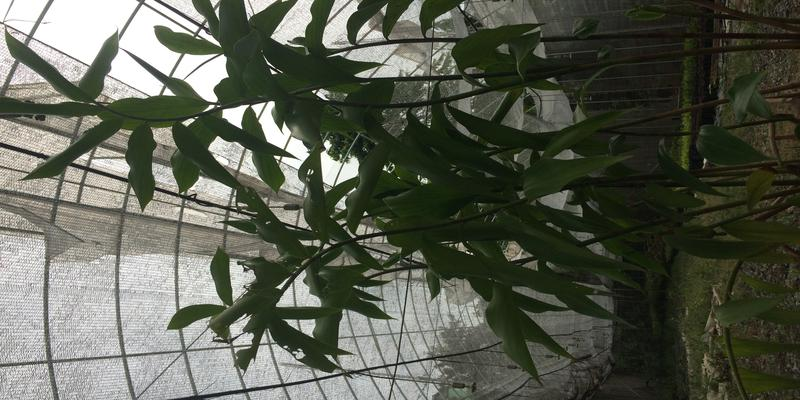Insulin: (107, 55, 756, 306)
